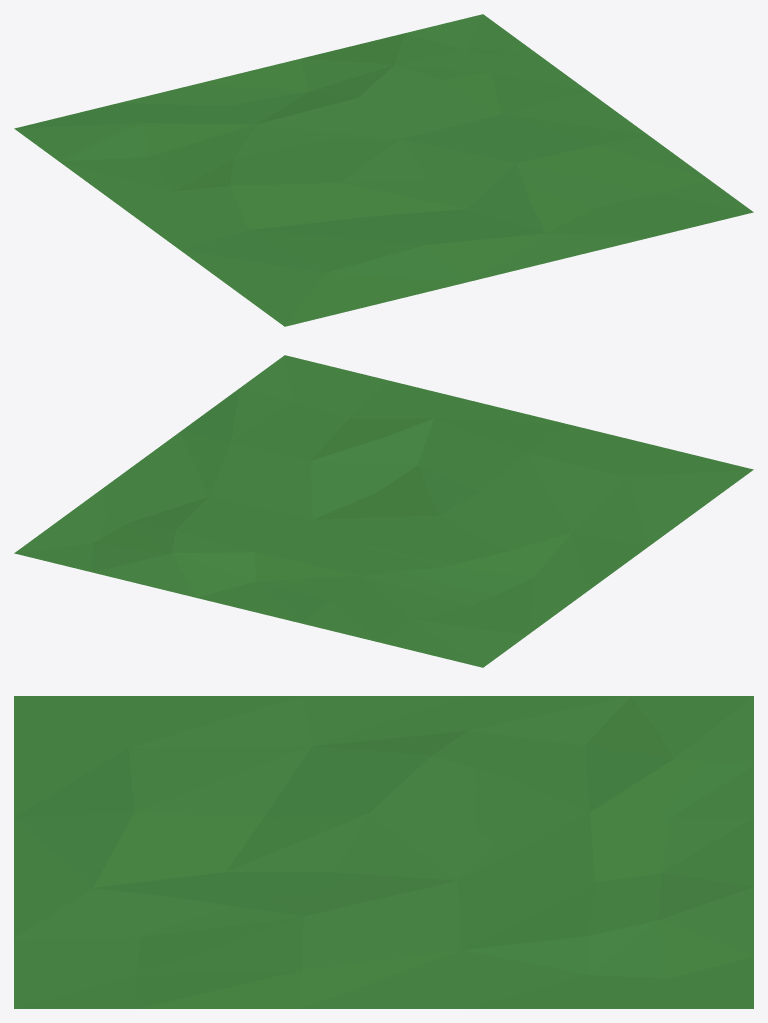
File: Terreno.fbx
3 renders of one model, top to bottom at view 1: azimuth 30°, elevation 25°; view 2: azimuth 150°, elevation 25°; view 3: azimuth 270°, elevation 25°, orthographic. The views are drawn at different scales.
Visible parts, largest first — view 1: TerrainTest.001; view 2: TerrainTest.001; view 3: TerrainTest.001.
Part boxes in pixels (x1,y1,x2,y2): TerrainTest.001: (14, 14, 753, 326); TerrainTest.001: (14, 355, 753, 667); TerrainTest.001: (14, 696, 753, 1008).
Size of the model in its own units: 1176 by 17.25 by 1176.
